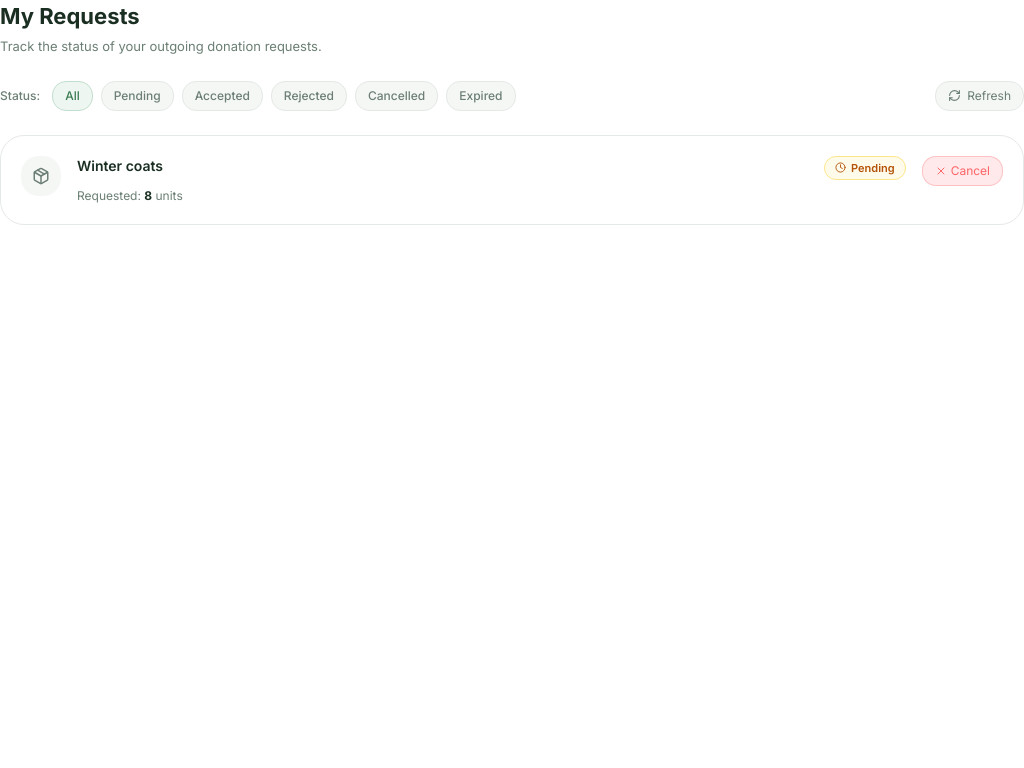
Scenario: MyRequests › T-14.2-06: cancel pending request shows confirmation
Check: the heading "Winter coats" is shown, box [77,156,163,176]
// Use specific id to avoid ambiguous role match
Click the button with id "cancel-req-1".
click(962, 170)  # box [922,156,1003,186]
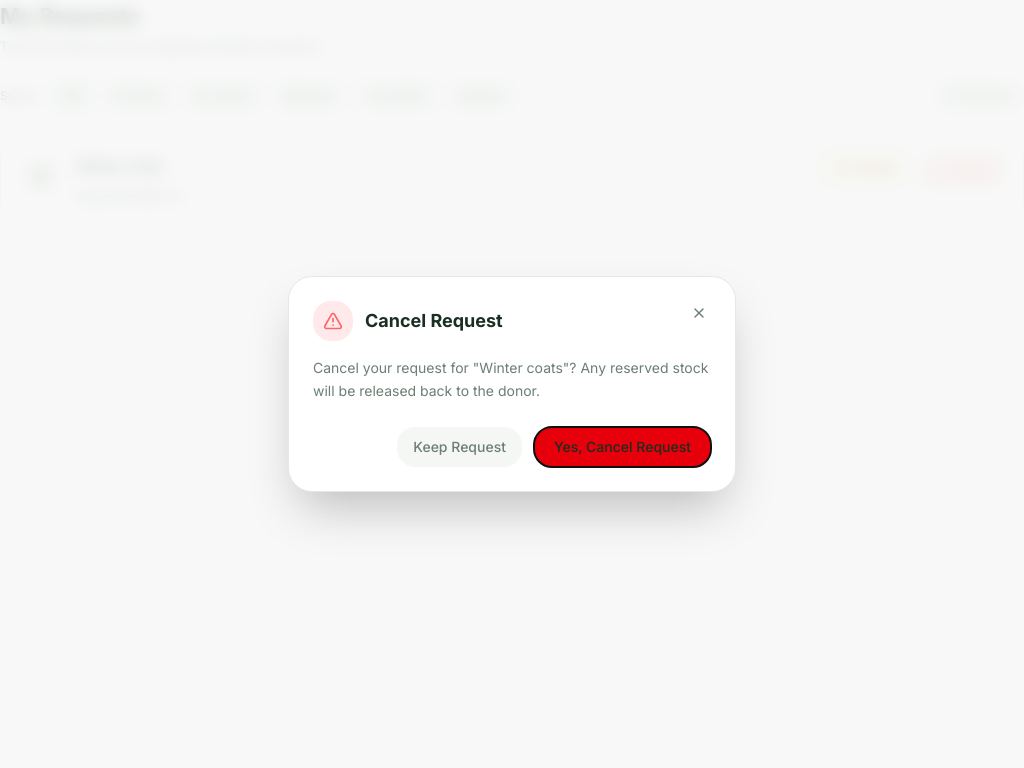
Check: the heading "Cancel Request" is shown, box [365,307,503,335]
Check: the heading with id "confirm-dialog-title" reads "Cancel Request", box [365,310,503,331]
